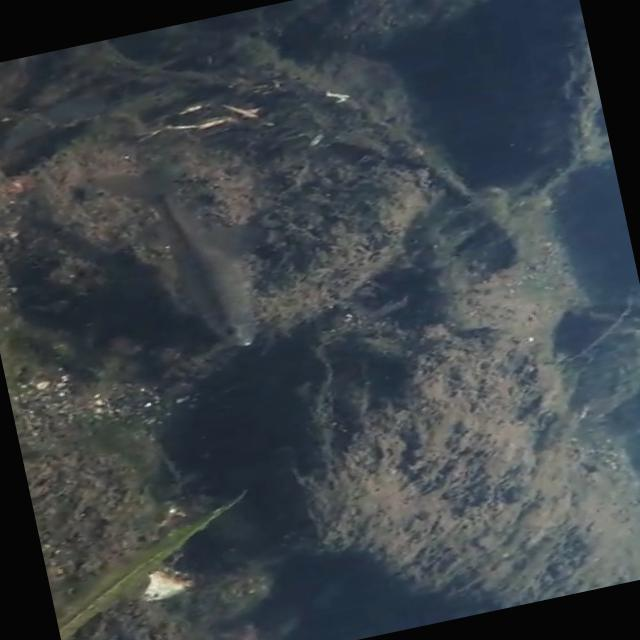Cakil Baligi: (91, 144, 293, 372)
